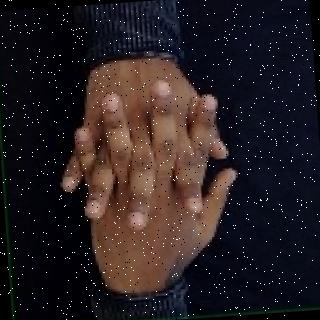W: (35, 46, 252, 290)
